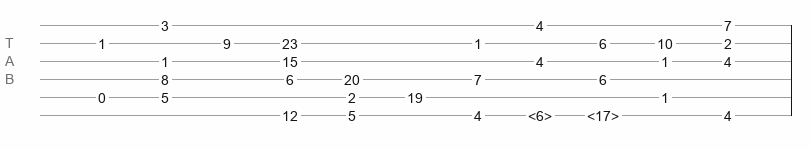0: (98, 90, 106, 100)
1: (98, 36, 106, 46), (161, 54, 169, 64), (474, 36, 482, 46), (661, 54, 669, 64), (661, 90, 669, 100)
10: (657, 36, 673, 46)
12: (282, 108, 298, 118)
15: (282, 54, 298, 64)
19: (407, 90, 423, 100)
2: (348, 90, 356, 100), (724, 36, 732, 46)
20: (344, 72, 360, 82)
23: (282, 36, 298, 46)
3: (161, 18, 169, 28)
4: (474, 108, 482, 118), (536, 54, 544, 64), (536, 18, 544, 28), (724, 108, 732, 118), (724, 54, 732, 64)
5: (161, 90, 169, 100), (348, 108, 356, 118)
6: (286, 72, 294, 82), (599, 36, 607, 46), (599, 72, 607, 82)
7: (474, 72, 482, 82), (724, 18, 732, 28)
8: (161, 72, 169, 82)
9: (223, 36, 231, 46)
harmonic: (587, 108, 619, 118), (528, 108, 552, 118)
